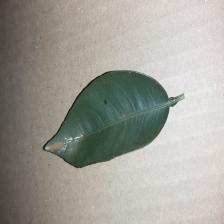healthy: (66, 88, 176, 171)
